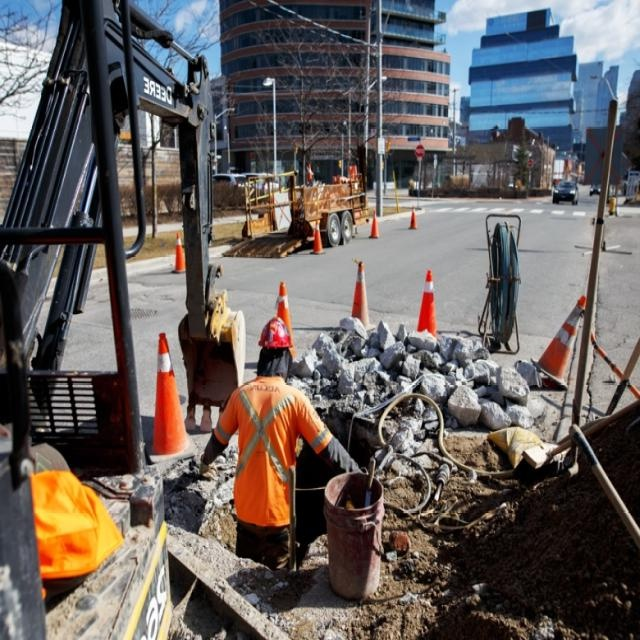Con_Casco: (260, 318, 291, 366)
Con_Chaleco: (232, 380, 296, 513)
